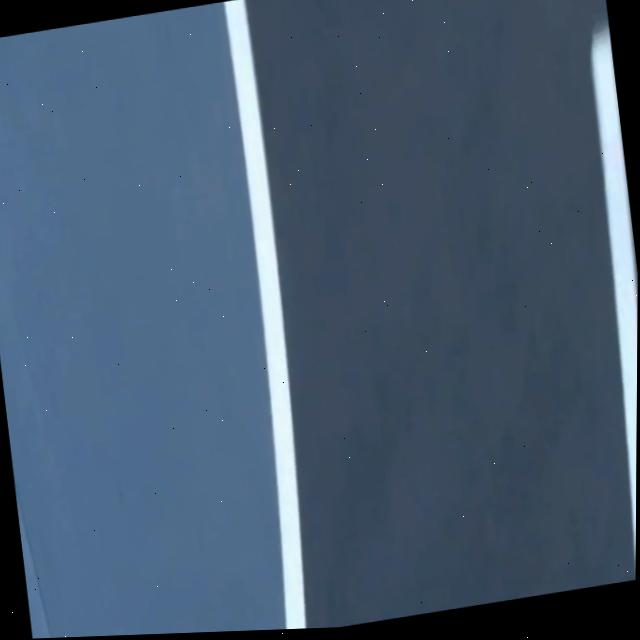center: (590, 25, 638, 580)
left: (223, 0, 305, 629)
